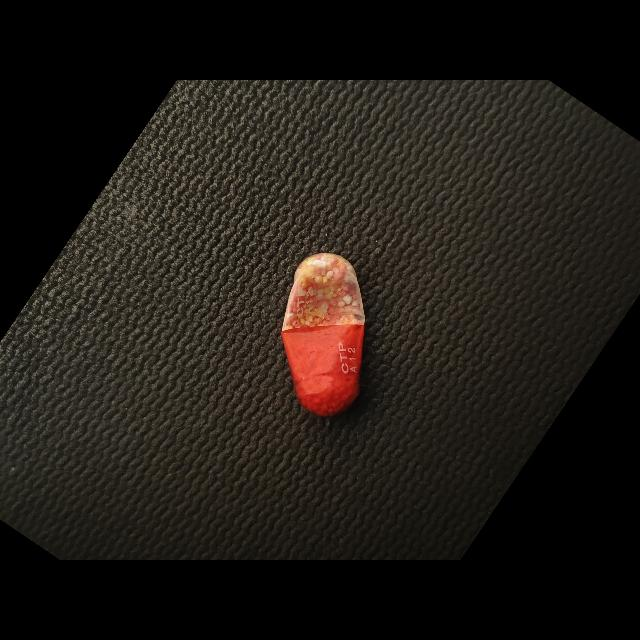Defective Capsule: (281, 253, 365, 417)
